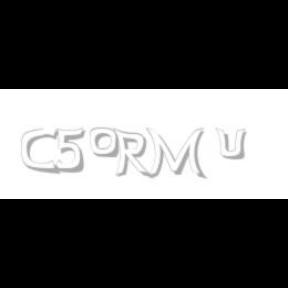5: (54, 128, 86, 174)
C: (22, 128, 58, 174)
M: (145, 128, 204, 180)
R: (113, 128, 151, 180)
o: (90, 128, 118, 158)
u: (216, 128, 250, 160)
